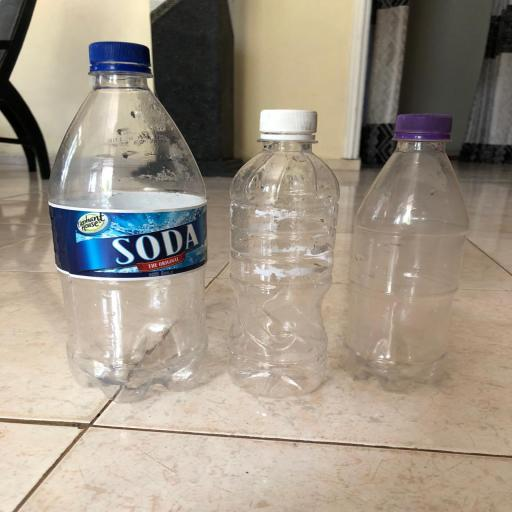waste: (48, 31, 216, 407), (336, 103, 471, 395), (224, 94, 340, 405)
